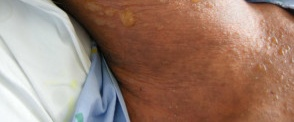SJS-TEN: (233, 17, 293, 105), (69, 0, 153, 37)
